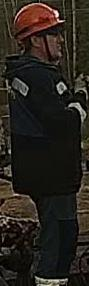gloves: (73, 71, 89, 102)
helmet: (11, 2, 66, 40)
vest: (4, 55, 82, 196)
